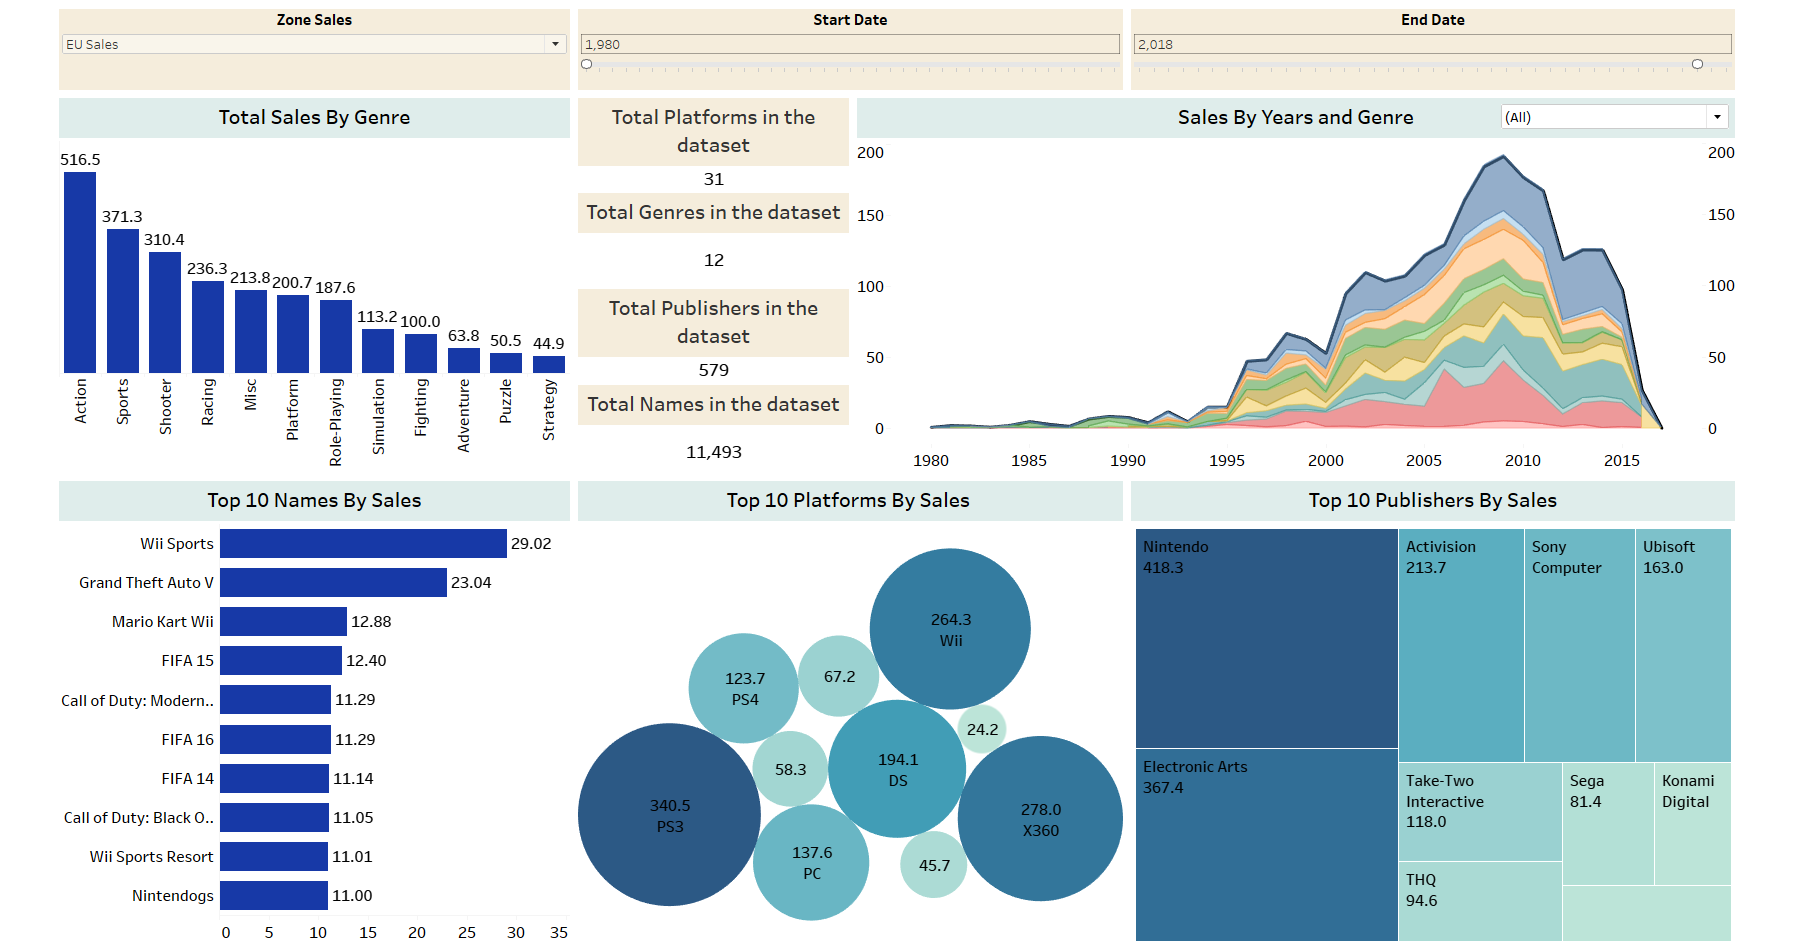

The dashboard page shown, as its layout file describes it:
{"tool":"tableau","page":{"name":"Dashboard 1","canvas":[1700,960],"ordinal":0},"visuals":[{"type":"parameter","param":"[Parameters].[Parameter 1]","box":[8,8,519.3,88.6]},{"type":"parameter","param":"[Parameters].[Parameter 2]","box":[527.3,8,552.7,88.6]},{"type":"parameter","param":"[Parameters].[Parameter 3]","box":[1080,8,612,88.6]},{"type":"worksheet","title":"Total Sales By Genre","mark":"Automatic","rows":["Calculation_377739459395584000"],"cols":["Genre"],"box":[8,96.6,519.3,383.4]},{"type":"worksheet","title":"Total Platforms in the dataset","mark":"Automatic","box":[527.3,96.6,278.8,95.9]},{"type":"worksheet","title":"Sales By Years and Genre","mark":"Automatic","rows":["Calculation_377739459395584000","Calculation_377739459395584000"],"cols":["Year"],"box":[806.1,96.6,885.9,383.4]},{"type":"filter","title":"Sales By Years and Genre","param":"[federated.0aacl4o197uxlo16p668u002sxhb].[none:Genre:nk]","box":[1451,103.7,234,30.7]},{"type":"worksheet","title":"Total Genres in the dataset","mark":"Automatic","box":[527.3,192.5,278.8,95.8]},{"type":"worksheet","title":"Total Publishers in the dataset","mark":"Automatic","box":[527.3,288.3,278.8,95.8]},{"type":"worksheet","title":"Total Names in the dataset","mark":"Automatic","box":[527.3,384.1,278.8,95.9]},{"type":"worksheet","title":"Top 10 Names By Sales","mark":"Automatic","rows":["Name"],"cols":["Calculation_377739459395584000"],"box":[8,480,519.3,472]},{"type":"worksheet","title":"Top 10 Platforms By Sales ","mark":"Circle","box":[527.3,480,552.9,472]},{"type":"worksheet","title":"Top 10 Publishers By Sales","mark":"Automatic","box":[1080.2,480,611.8,472]}]}

Visuals, with their boxes on the page's 1700x960 design canvas (x1, y1, x2, y2). These are canvas units, not pixel positions in the 1812x943 screenshot, which may show the page scaled, cropped or inside an application window:
parameter: (8,8,527,97)
parameter: (527,8,1080,97)
parameter: (1080,8,1692,97)
"Total Sales By Genre" worksheet: (8,97,527,480)
"Total Platforms in the dataset" worksheet: (527,97,806,192)
"Sales By Years and Genre" worksheet: (806,97,1692,480)
"Sales By Years and Genre" filter: (1451,104,1685,134)
"Total Genres in the dataset" worksheet: (527,192,806,288)
"Total Publishers in the dataset" worksheet: (527,288,806,384)
"Total Names in the dataset" worksheet: (527,384,806,480)
"Top 10 Names By Sales" worksheet: (8,480,527,952)
"Top 10 Platforms By Sales " worksheet (Circle marks): (527,480,1080,952)
"Top 10 Publishers By Sales" worksheet: (1080,480,1692,952)
